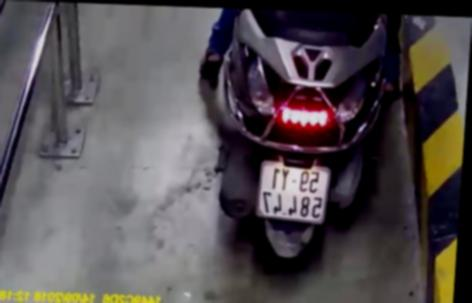License_Plate: (251, 160, 334, 226)
